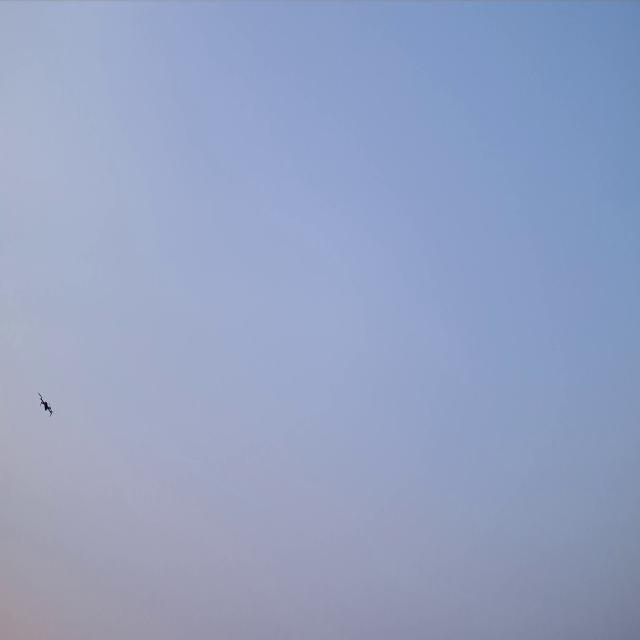UAV: (37, 391, 54, 417)
